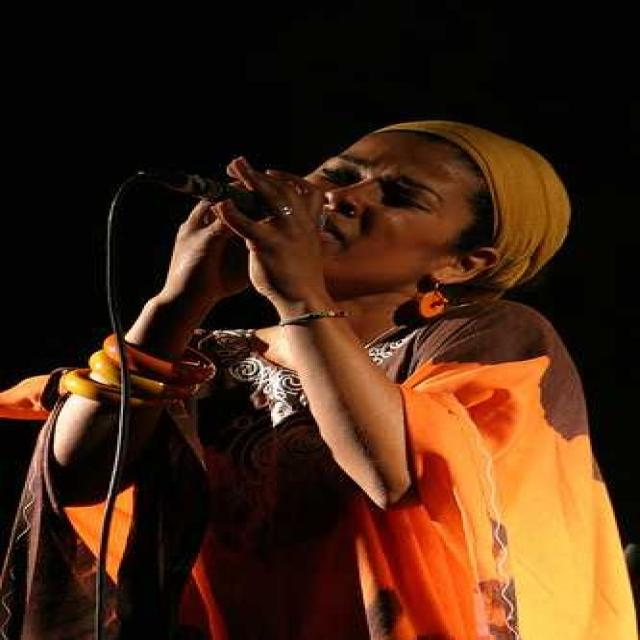microphone: (140, 167, 337, 236)
